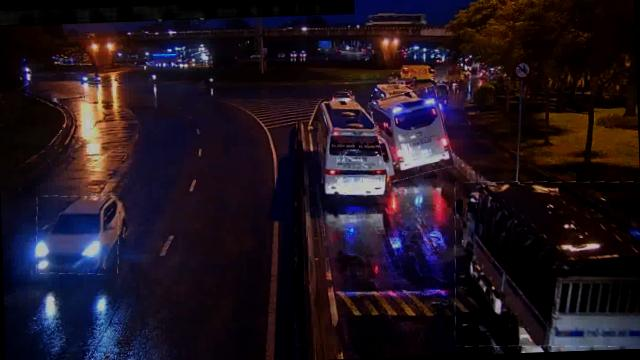Bus: (372, 88, 450, 180), (313, 104, 389, 198)
Car: (35, 194, 121, 276)
Truck: (451, 177, 640, 350)
